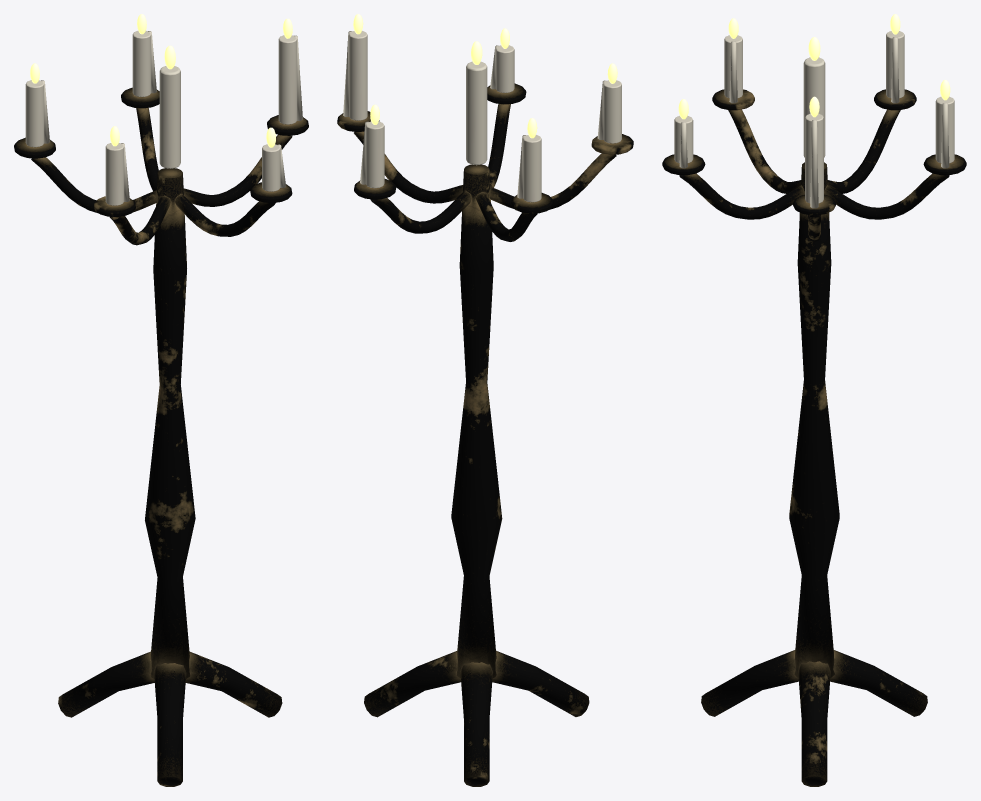
Rendered from candelabro.glb.
3 renders of one model, left to right at view 1: azimuth 30°, elevation 25°; view 2: azimuth 150°, elevation 25°; view 3: azimuth 270°, elevation 25°, orthographic.
Parts seen in each view (by area): view 1: candelabro; view 2: candelabro; view 3: candelabro.
Part boxes in pixels (x1,y1,x2,y2): candelabro: (14, 14, 308, 786); candelabro: (337, 14, 633, 786); candelabro: (662, 14, 966, 786).
Size of the model in its own units: 0.6764 by 1.8 by 0.7087.
2 materials, 1 textured.
